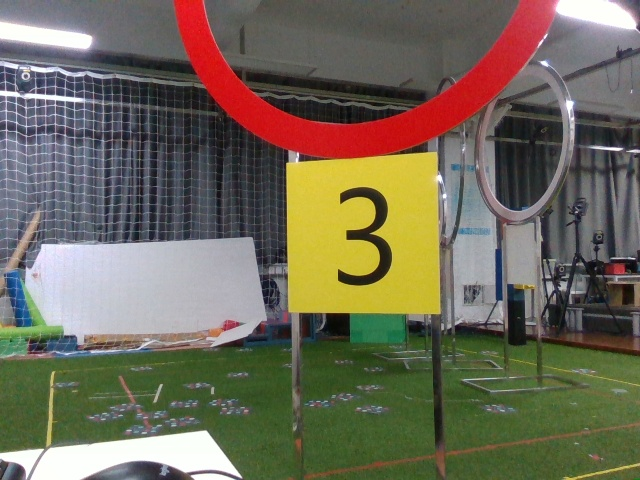target: (295, 162, 439, 311)
